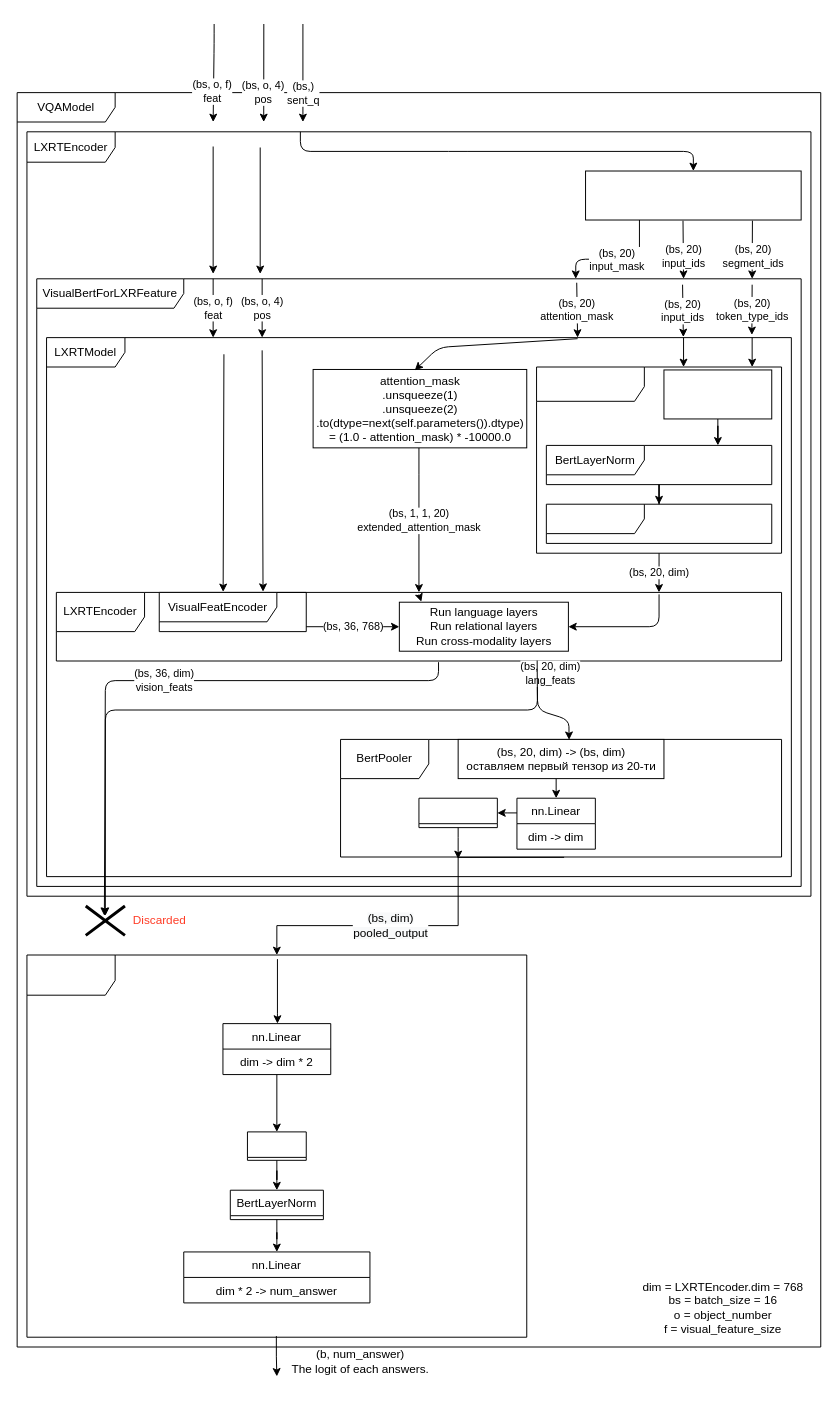
Image size: 838x1401. Some labels were removed from this diagram. Here are the shapes that lost their labels. From the top down, the box of each, then its label:
(585, 170, 801, 220): convert_sents_to_features (uses BertTokenizer)
(663, 369, 772, 419): => words_embeddings + position_embeddings + token_type_embeddings
(536, 366, 782, 553): BertEmbeddings
(545, 503, 772, 543): nn.Dropout
(418, 797, 497, 828): nn.Tanh
(246, 1131, 306, 1160): GeLU
(26, 954, 527, 1337): nn.Sequential (logit_fc)
